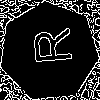R: (24, 26, 72, 67)
